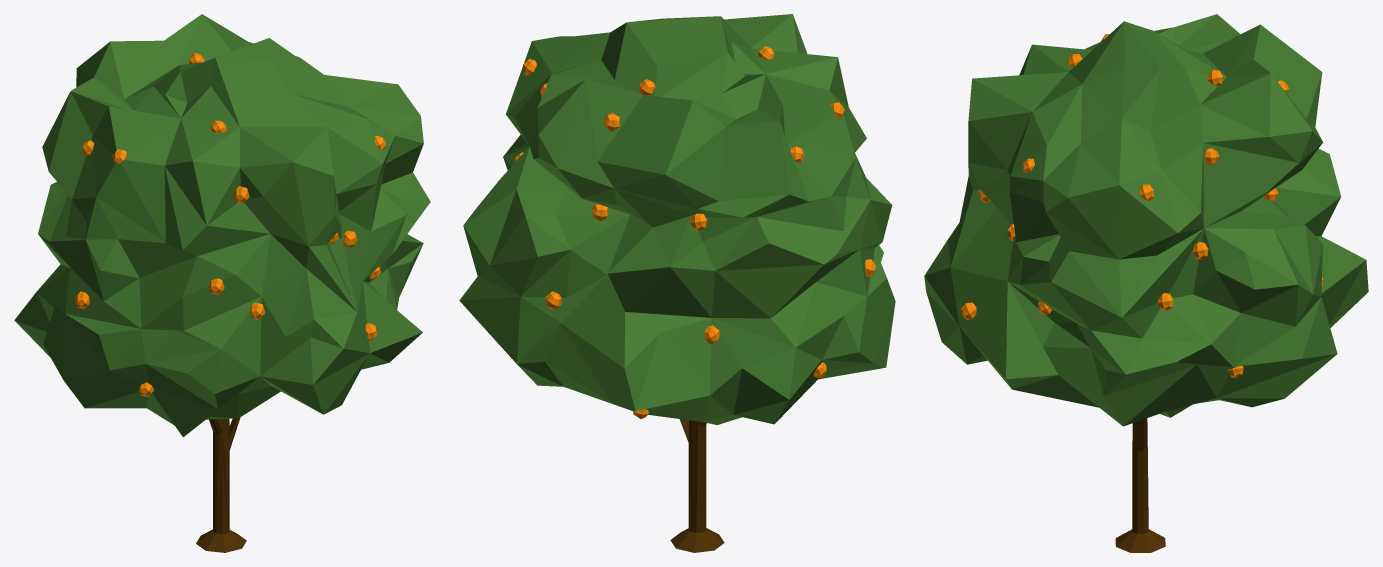
Rendered from Orange Tree by Google Data Arts Team - QI3KoFyPP9-BrOZub1C.glb.
3 renders of one model, left to right at view 1: azimuth 30°, elevation 25°; view 2: azimuth 150°, elevation 25°; view 3: azimuth 270°, elevation 25°, orthographic. The views are drawn at different scales.
Visible parts, largest first — view 1: treeOrange; view 2: treeOrange; view 3: treeOrange.
Boxes of the visible parts, x1,y1,x2,y2 form: treeOrange: (14, 14, 430, 552); treeOrange: (459, 14, 895, 552); treeOrange: (924, 14, 1368, 552).
Bounding box in the file's own units: 395 × 517 × 405.
